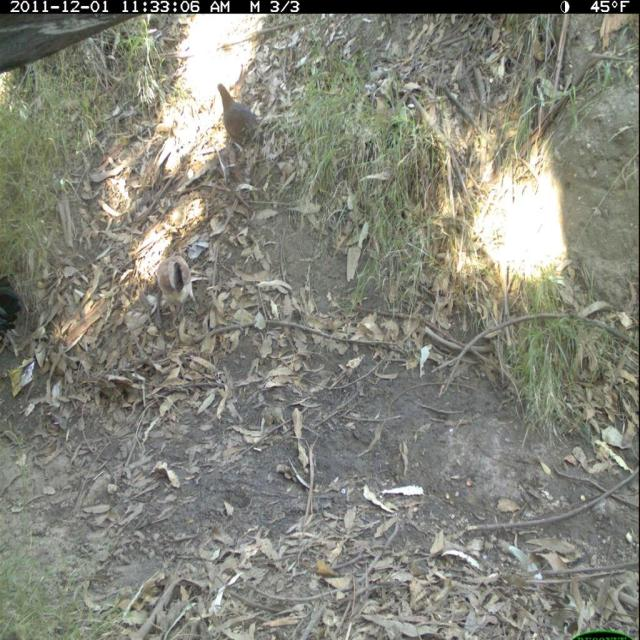bird: (213, 77, 266, 169), (153, 252, 203, 335), (1, 270, 31, 364)
